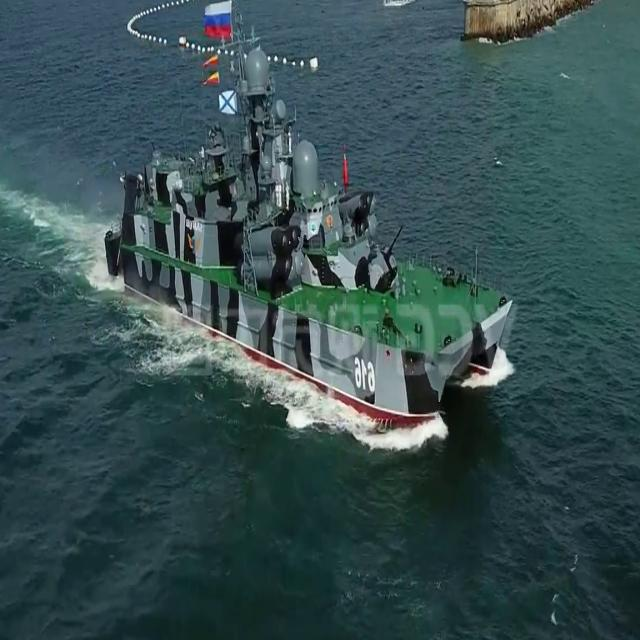navalvessels: (104, 10, 517, 431)
